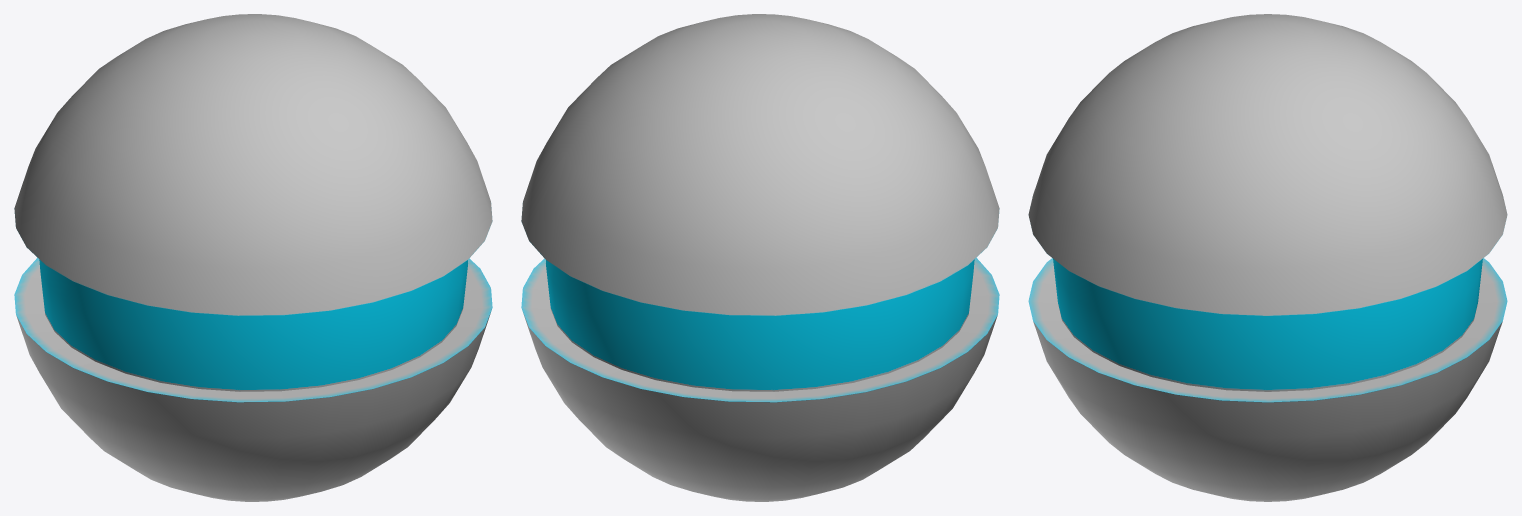
File: ball (1).FBX
The picture shows the model from 3 angles, left to right: view 1: azimuth 30°, elevation 25°; view 2: azimuth 150°, elevation 25°; view 3: azimuth 270°, elevation 25°; orthographic projection.
Parts seen in each view (by area): view 1: Sphere001; view 2: Sphere001; view 3: Sphere001.
Boxes of the visible parts, x1=… form: Sphere001: x1=14, y1=14, x2=492, y2=501; Sphere001: x1=521, y1=14, x2=999, y2=501; Sphere001: x1=1028, y1=14, x2=1507, y2=501.
Bounding box in the file's own units: 93.74 × 95.58 × 93.74.
1 material, 1 textured.
